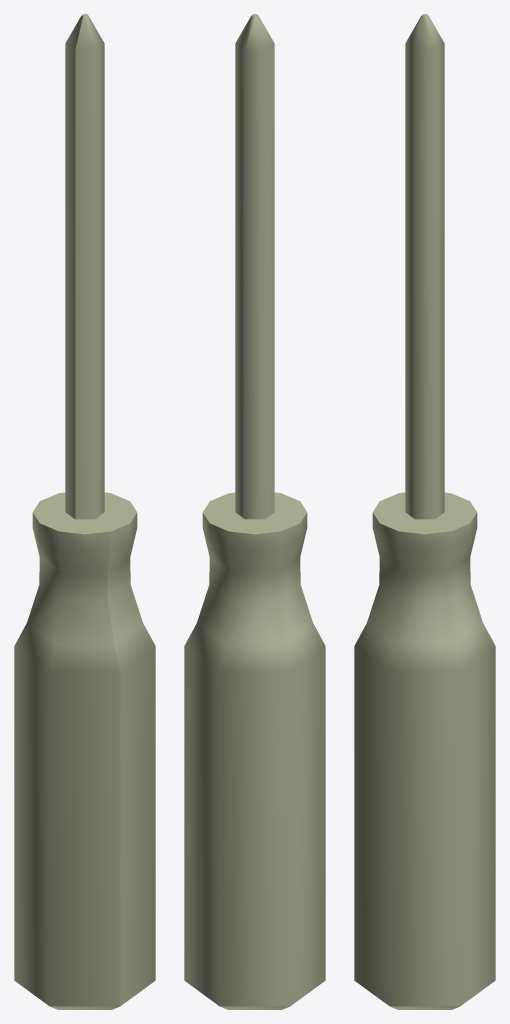
File: SM_ScrewdriverSet_02b.FBX
3 views of the same model, side by side, from view 1: azimuth 30°, elevation 25°; view 2: azimuth 150°, elevation 25°; view 3: azimuth 270°, elevation 25° (orthographic).
Visible parts, largest first — view 1: SM_ScrewdriverSet_02b_LOD0; view 2: SM_ScrewdriverSet_02b_LOD0; view 3: SM_ScrewdriverSet_02b_LOD0.
Part boxes in pixels (x1,y1,x2,y2): SM_ScrewdriverSet_02b_LOD0: [14, 14, 155, 1009]; SM_ScrewdriverSet_02b_LOD0: [184, 14, 325, 1009]; SM_ScrewdriverSet_02b_LOD0: [354, 14, 495, 1009].
Size of what is drawn, in the model's own units: 2.34 by 20.67 by 2.7.
